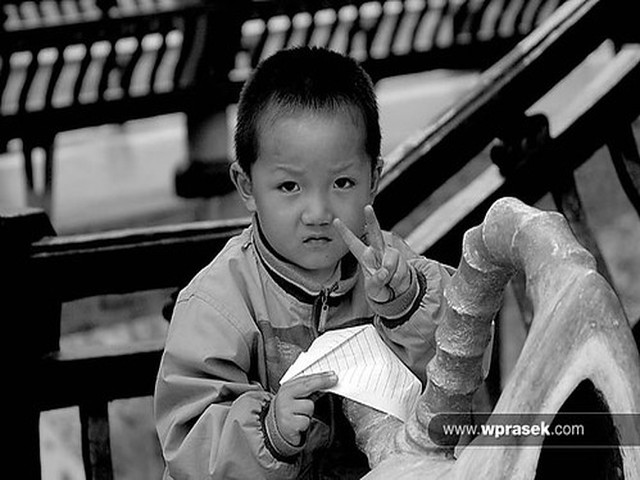Person: (161, 33, 428, 464)
